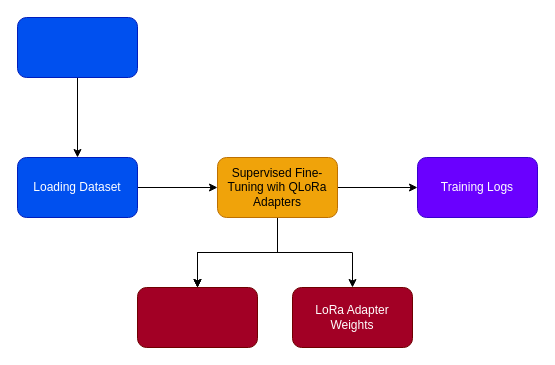
This 555x365 diagram has some shape labels left out. The centre of each missing label's shape, as x and y in pixels:
"Fine-Tuned Model" belongs at (x=197, y=317).
"Loading Base Model" belongs at (x=77, y=47).
